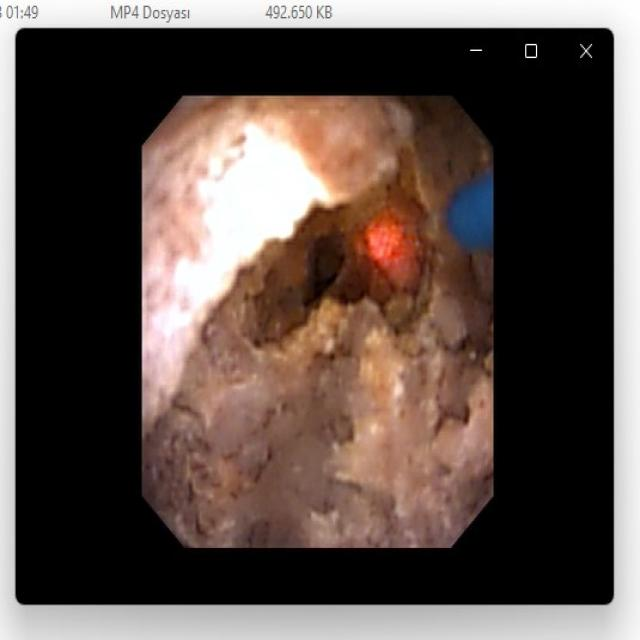fiber: (452, 174, 490, 244)
stone: (149, 103, 490, 539)
